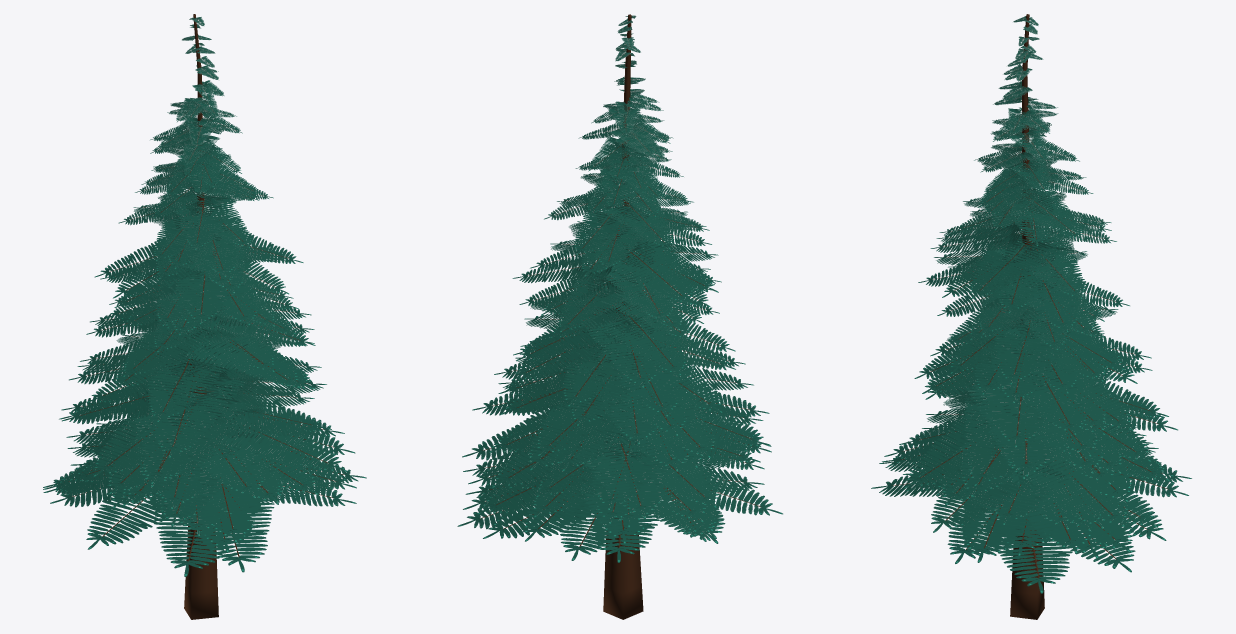
File: pine_tree_LOD0.fbx
3 views of the same model, side by side, from view 1: azimuth 30°, elevation 25°; view 2: azimuth 150°, elevation 25°; view 3: azimuth 270°, elevation 25° (orthographic).
Visible parts, largest first — view 1: Pine_Tree_0; view 2: Pine_Tree_0; view 3: Pine_Tree_0.
Boxes of the visible parts, x1=… form: Pine_Tree_0: x1=43, y1=14, x2=366, y2=619; Pine_Tree_0: x1=457, y1=14, x2=782, y2=619; Pine_Tree_0: x1=871, y1=14, x2=1191, y2=619.
Size of the model in its own units: 425 by 710 by 418.
2 materials, 1 textured.
